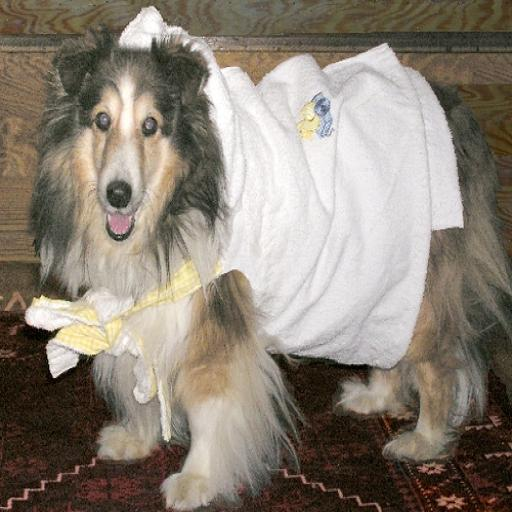dog_face: (56, 46, 201, 245)
